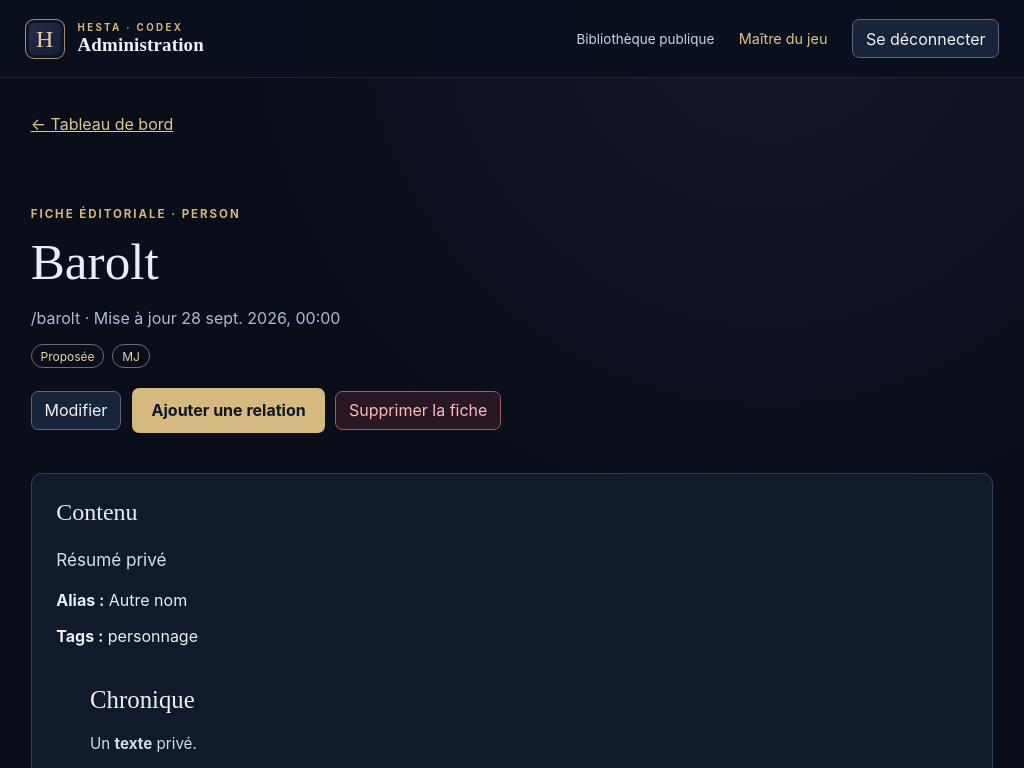
Test case: administration en lecture seule › ouvre une URL admin directe et revient au tableau de bord sans rechargement
expect the heading "Barolt" is shown: met, box left=31, top=233, right=159, bottom=290
Click the link "← Tableau de bord": (102, 124) left=31, top=114, right=173, bottom=134
(page scrolled)
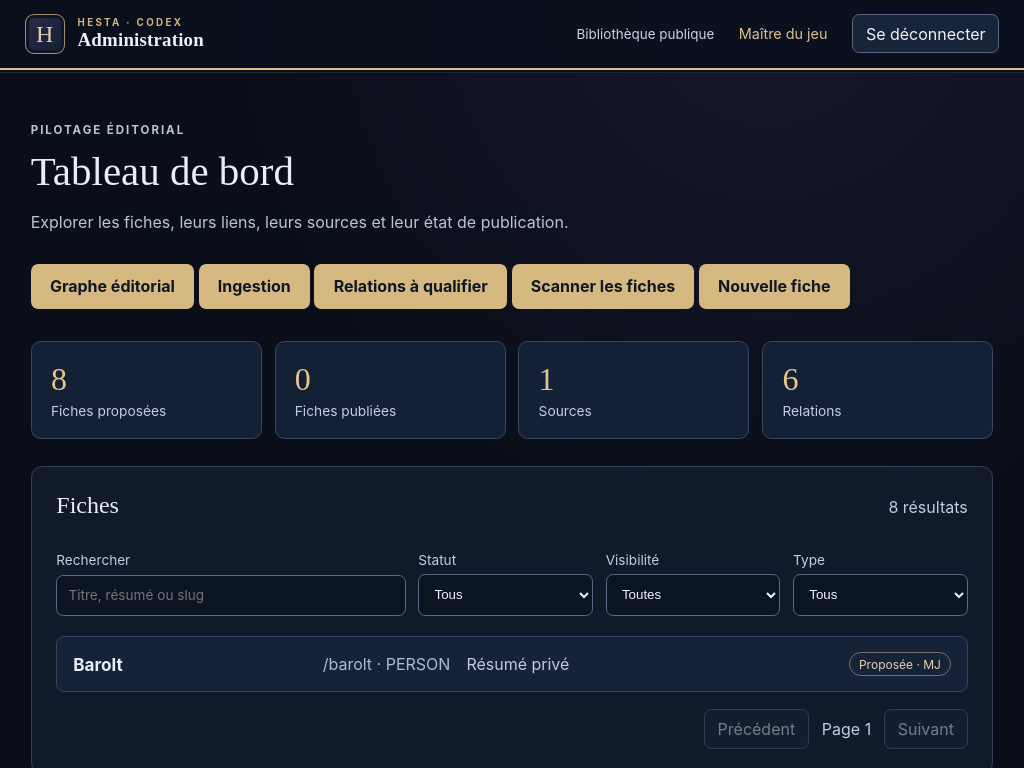
expect the heading "Tableau de bord" is shown: met, box left=31, top=148, right=294, bottom=194
